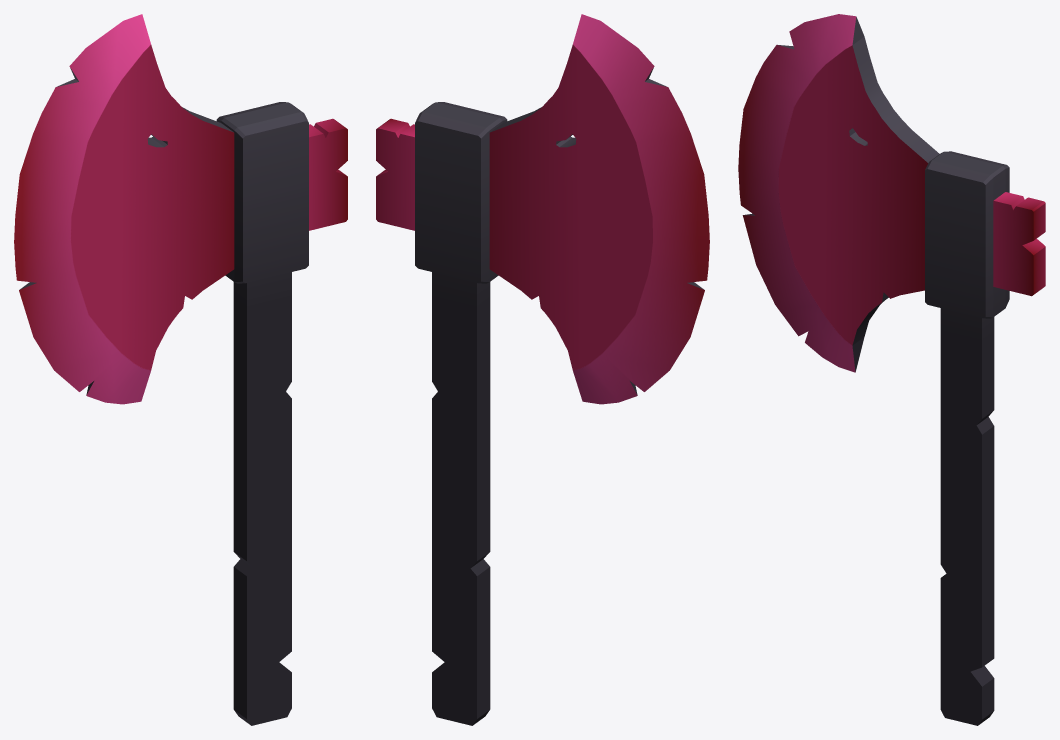
File: ASSET_3_OK.fbx
3 views of the same model, side by side, from view 1: azimuth 30°, elevation 25°; view 2: azimuth 150°, elevation 25°; view 3: azimuth 330°, elevation 25° (orthographic). The views are drawn at different scales.
Visible parts, largest first — view 1: ASSET_3_OK; view 2: ASSET_3_OK; view 3: ASSET_3_OK.
Part boxes in pixels (left/top/right/bottom): ASSET_3_OK: left=14, top=14, right=347, bottom=725; ASSET_3_OK: left=376, top=14, right=709, bottom=725; ASSET_3_OK: left=738, top=14, right=1045, bottom=725.
Bounding box in the file's own units: 288 × 617 × 40.
Materials: 1 (1 with a texture image).
